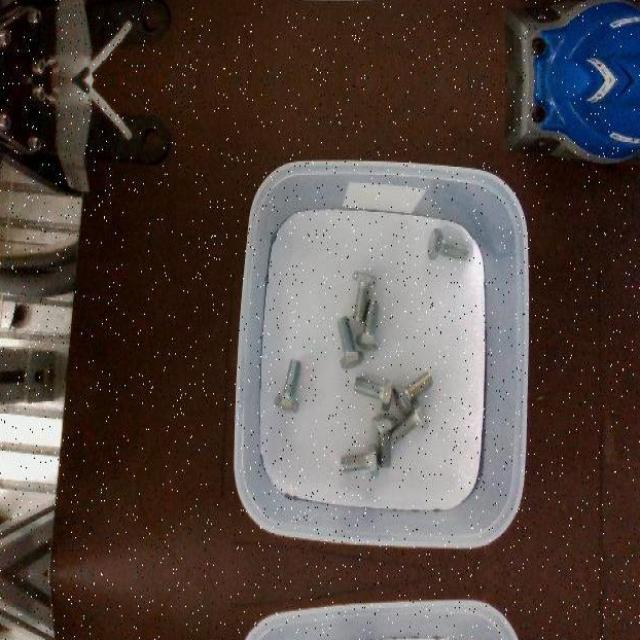screw: (393, 372, 433, 415), (390, 399, 429, 442), (336, 315, 364, 370), (274, 358, 302, 412), (355, 298, 381, 351), (353, 376, 393, 410), (372, 415, 397, 468), (341, 443, 378, 478), (352, 272, 376, 321)
